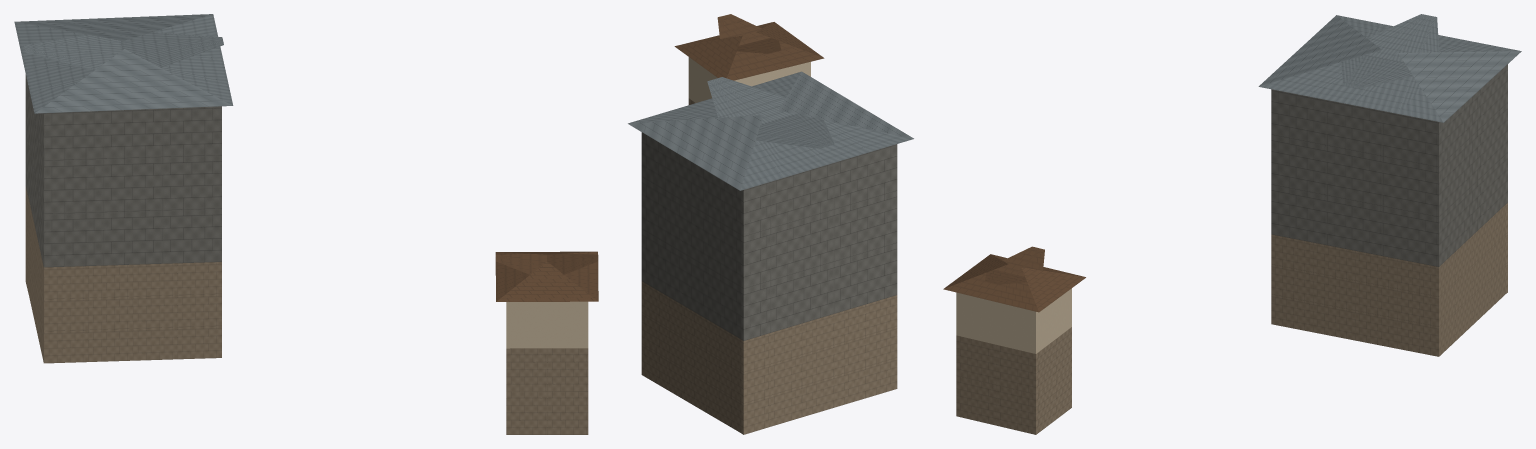
File: bld_c17_28_378.gltf
3 renders of one model, left to right at view 1: azimuth 30°, elevation 25°; view 2: azimuth 150°, elevation 25°; view 3: azimuth 270°, elevation 25°, orthographic. The views are drawn at different scales.
Parts seen in each view (by area): view 1: bld_c17_28_378; view 2: bld_c17_28_378; view 3: bld_c17_28_378.
Boxes of the visible parts, bbox=[...] form: bld_c17_28_378: bbox=[14, 14, 598, 434]; bld_c17_28_378: bbox=[628, 14, 913, 434]; bld_c17_28_378: bbox=[943, 14, 1521, 434].
Bounding box in the file's own units: 22.5 × 14.7 × 29.8.
Materials: 5 (5 with a texture image).
